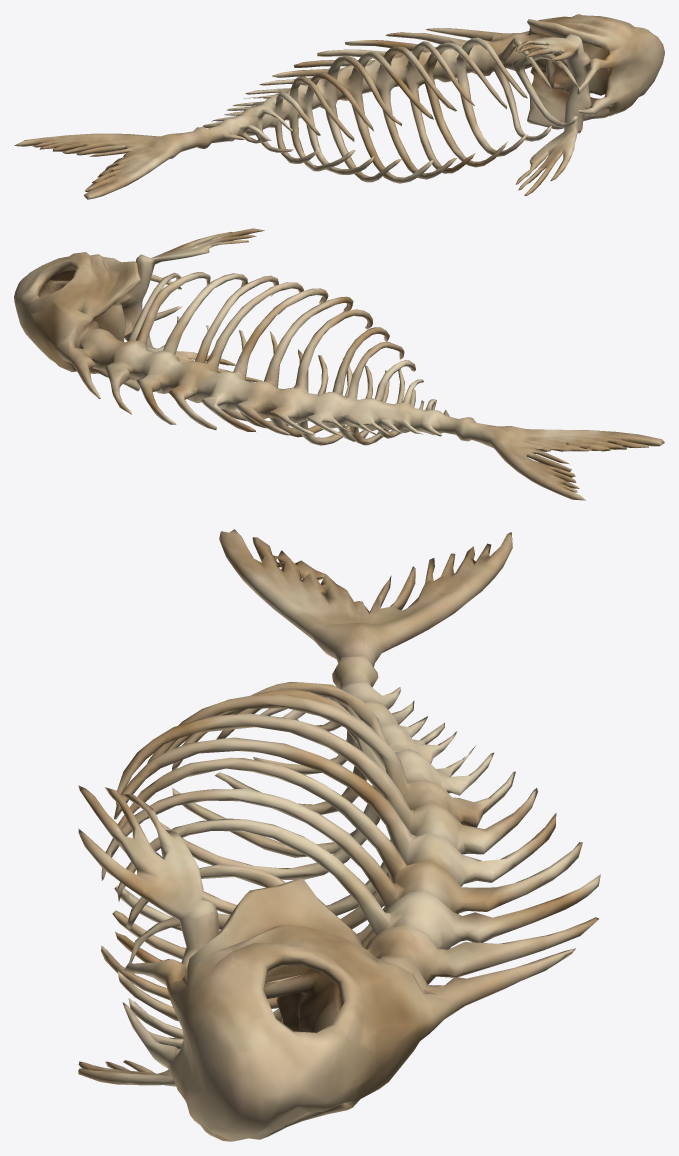
The model's file is bone_whole_m.glb.
3 views of the same model, one above another, from view 1: azimuth 30°, elevation 25°; view 2: azimuth 150°, elevation 25°; view 3: azimuth 270°, elevation 25° (orthographic). The views are drawn at different scales.
Visible parts, largest first — view 1: bone_whole_m; view 2: bone_whole_m; view 3: bone_whole_m.
Part boxes in pixels (box(x1,y1,x2,y2)): bone_whole_m: box(14, 14, 664, 199); bone_whole_m: box(14, 228, 664, 500); bone_whole_m: box(78, 529, 600, 1141).
Size of the model in its own units: 0.3 by 0.0688 by 0.1162.
Materials: 1 (1 with a texture image).
